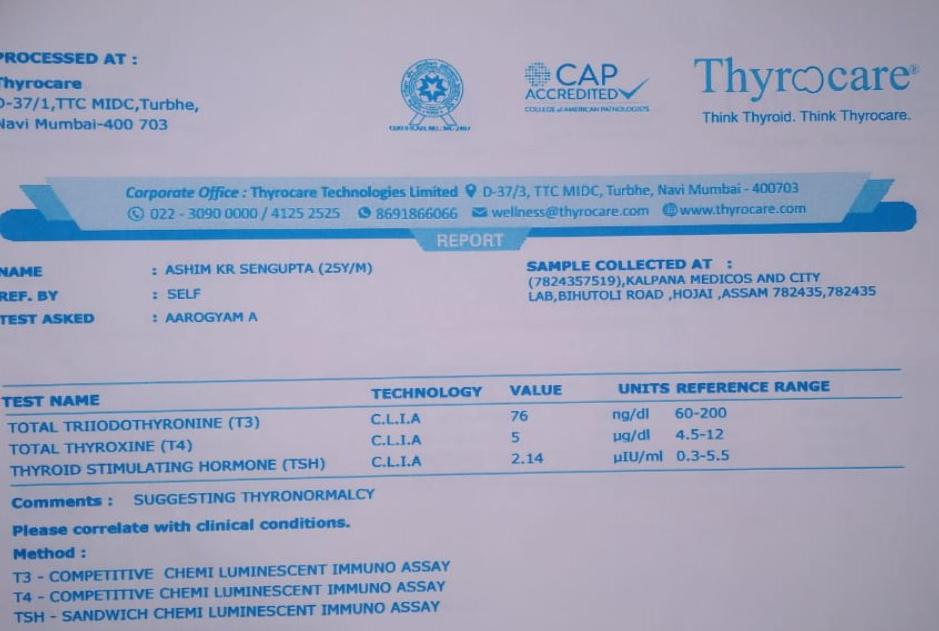Reference Range: (667, 401, 734, 470)
Test Name: (3, 411, 333, 484)
Units: (606, 401, 667, 471)
Value: (504, 403, 553, 472)
